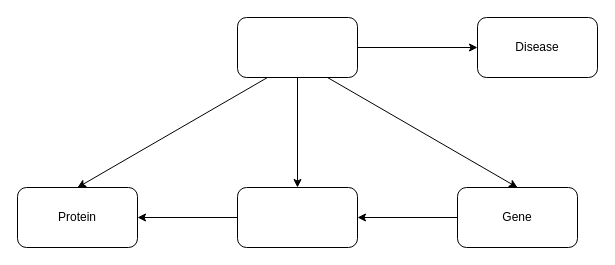
The diagram is 615 pixels wide and 265 high, and some of its shapes have lost their labels. Here are the shapes that lost their labels. From the top down, the centre of each, then its label:
At (297,47): "SNP".
At (297,217): "RNA".
